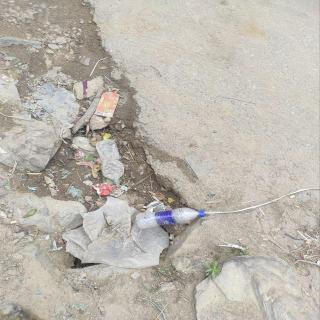Plastic-bottle: (134, 207, 208, 232), (94, 139, 130, 189)
